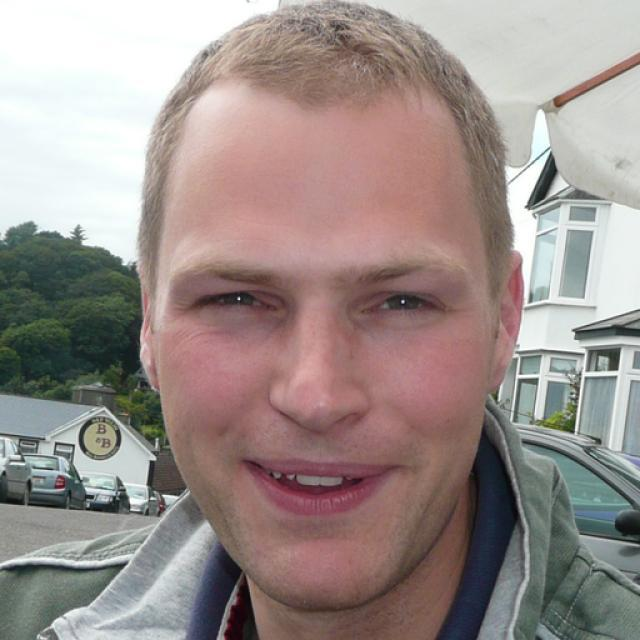happy: (156, 88, 494, 610)
